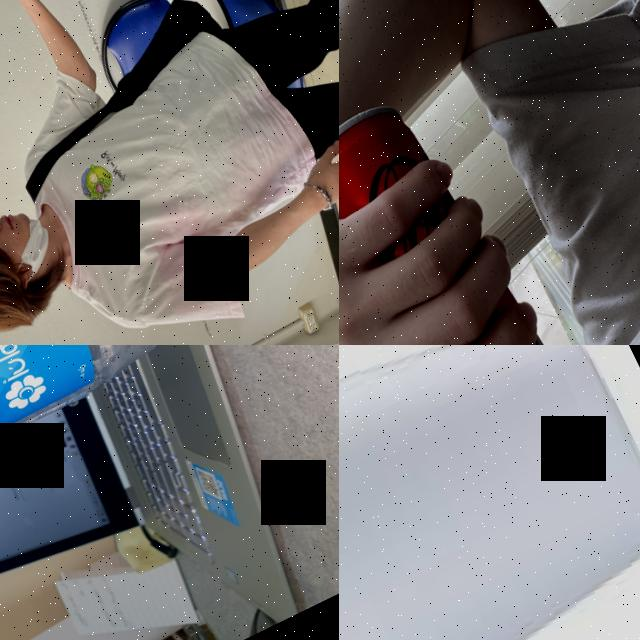bottle: (0, 345, 325, 539)
can: (339, 78, 606, 345)
cup: (339, 345, 640, 640)
